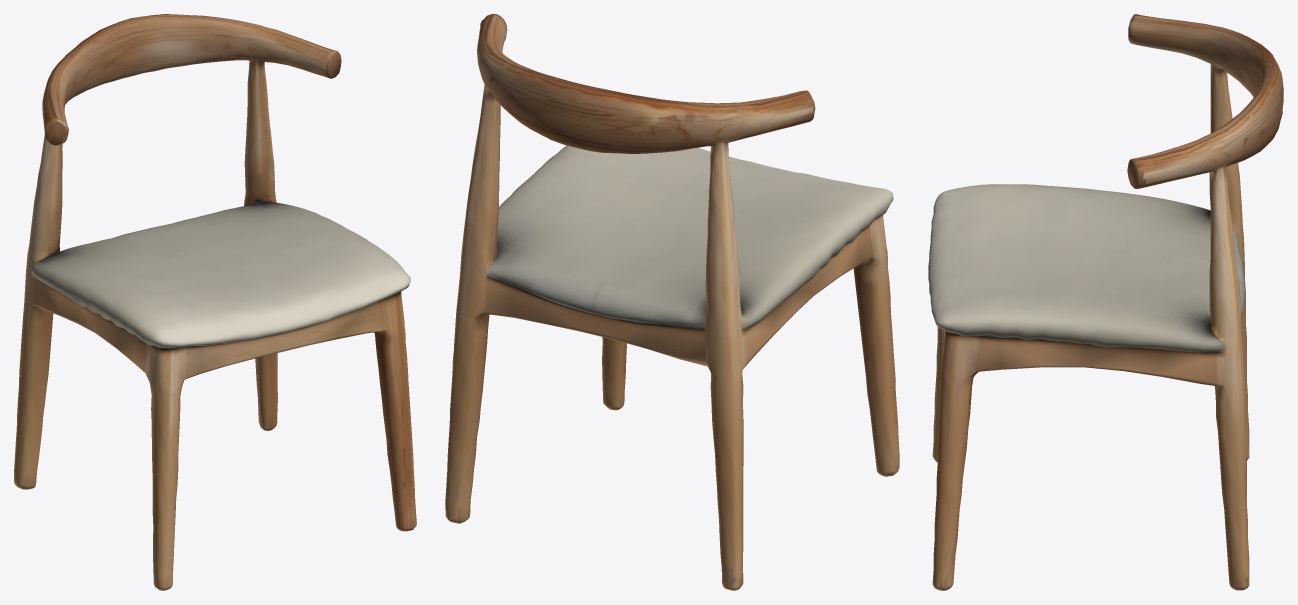
The model's file is Elara_chair_0404022011_texture.glb.
3 views of the same model, side by side, from view 1: azimuth 30°, elevation 25°; view 2: azimuth 150°, elevation 25°; view 3: azimuth 270°, elevation 25° (orthographic). The views are drawn at different scales.
Visible parts, largest first — view 1: Mesh_0.003; view 2: Mesh_0.003; view 3: Mesh_0.003.
Boxes of the visible parts, bbox=[...] form: Mesh_0.003: bbox=[14, 14, 416, 590]; Mesh_0.003: bbox=[445, 14, 899, 590]; Mesh_0.003: bbox=[928, 14, 1283, 590].
Bounding box in the file's own units: 0.5858 × 0.8128 × 0.5691.
1 material, 1 textured.
